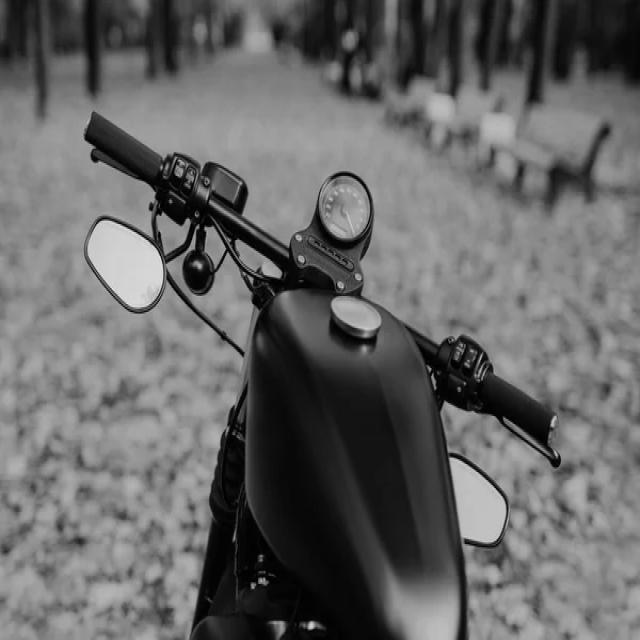Motorcycle: (85, 114, 560, 638)
